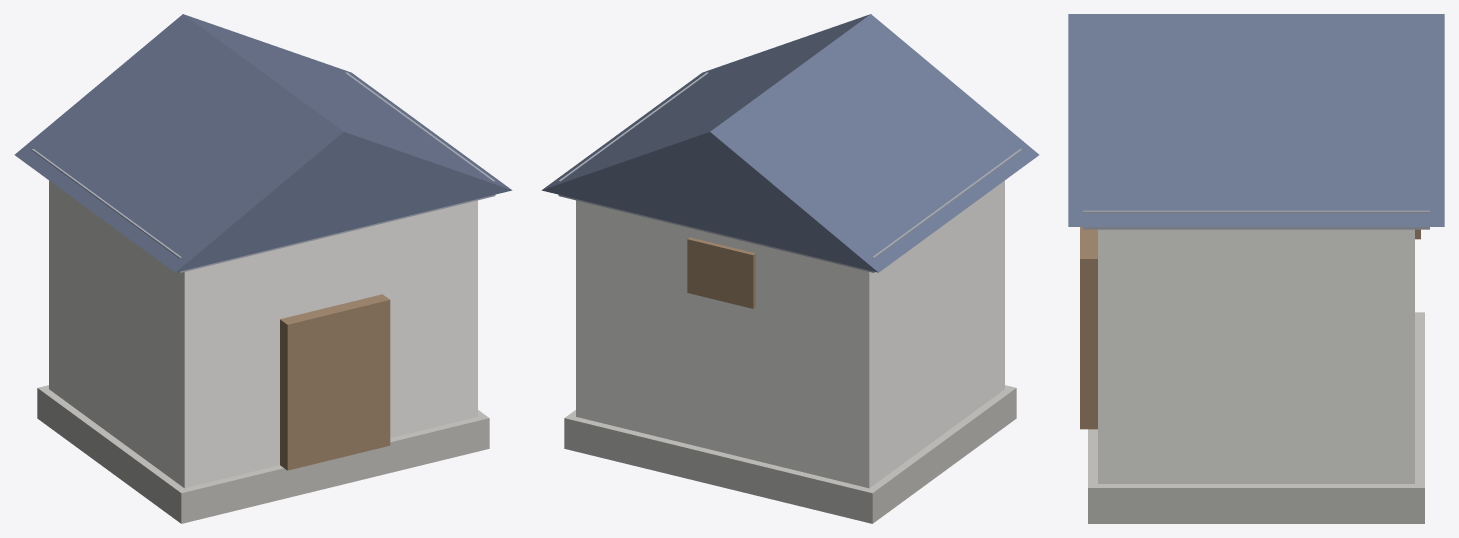
Rendered from kura_storehouse.fbx.
The picture shows the model from 3 angles, left to right: view 1: azimuth 30°, elevation 25°; view 2: azimuth 150°, elevation 25°; view 3: azimuth 270°, elevation 25°; orthographic projection. The views are drawn at different scales.
Visible parts, largest first — view 1: kura_storehouse; view 2: kura_storehouse; view 3: kura_storehouse.
Boxes of the visible parts, x1=… form: kura_storehouse: x1=14, y1=14, x2=512, y2=523; kura_storehouse: x1=541, y1=14, x2=1039, y2=523; kura_storehouse: x1=1068, y1=14, x2=1444, y2=523.
Bounding box in the file's own units: 460 × 470 × 380.
